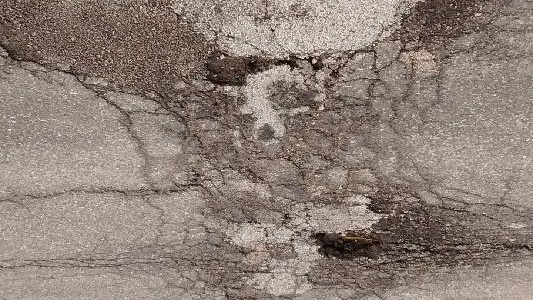pothole: (311, 228, 385, 263), (202, 47, 259, 88)
